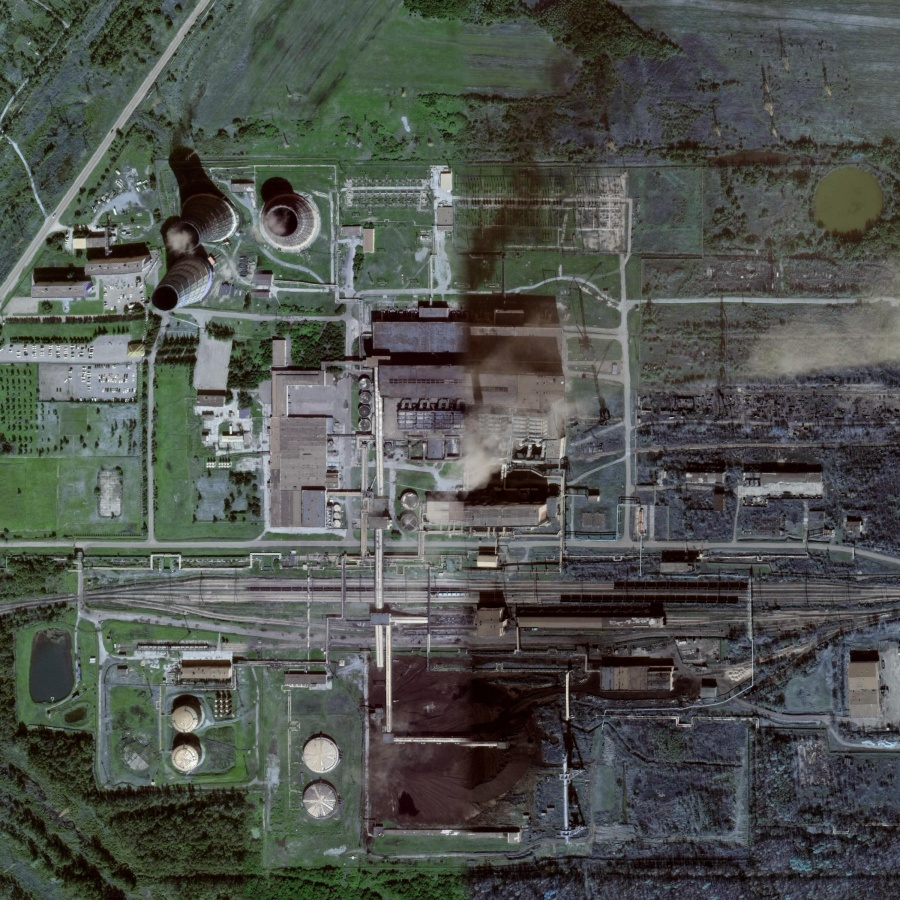PowerPlant: (130, 153, 619, 849)
